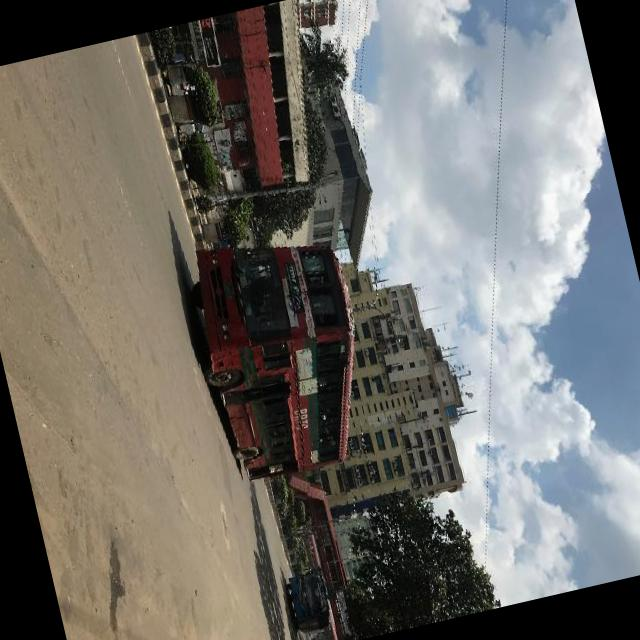bus: (174, 218, 383, 490), (282, 566, 336, 638)
